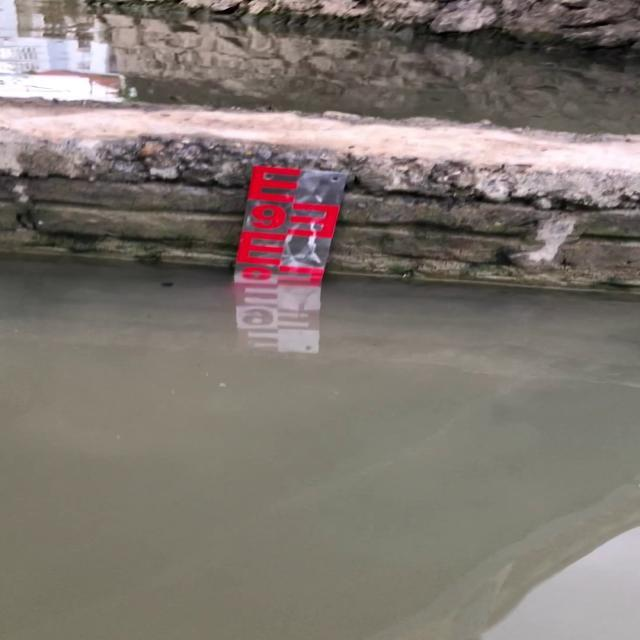ruler: (230, 154, 357, 285)
value: (245, 197, 293, 236)
